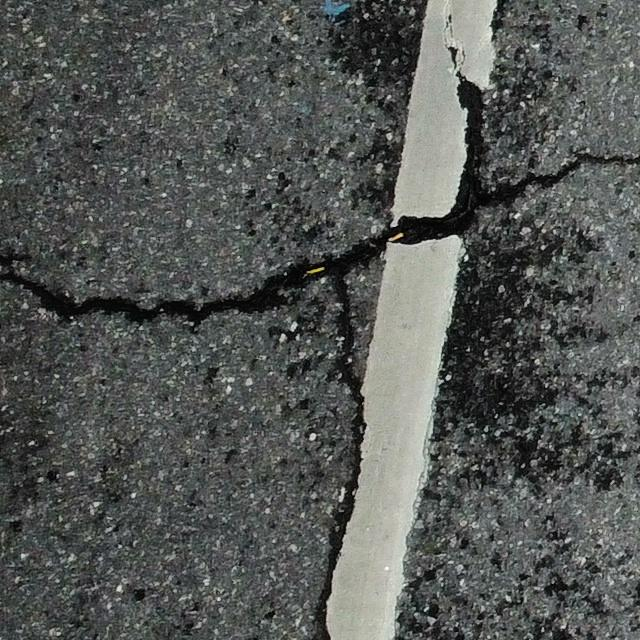LongitudinalCrack: (311, 276, 358, 639), (443, 5, 482, 201)
TransverseCrack: (2, 151, 640, 324)
